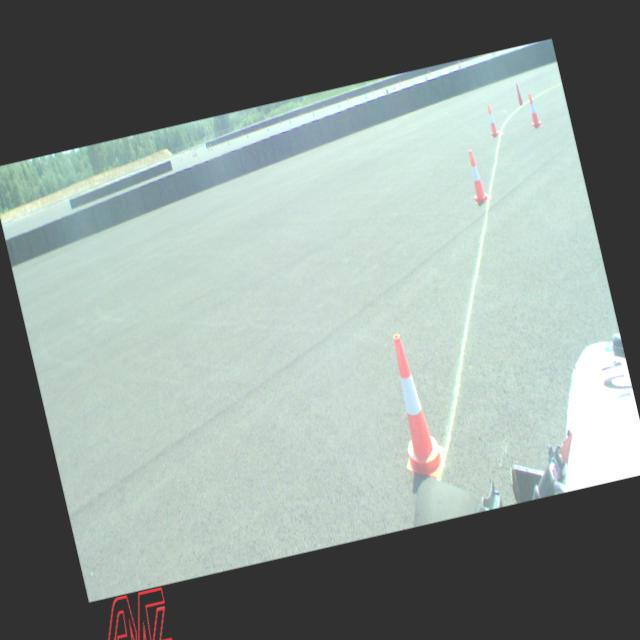orange_cone: (377, 330, 448, 482), (463, 148, 488, 204), (525, 92, 541, 127), (484, 104, 499, 137)
unknown_cone: (513, 82, 523, 105)
